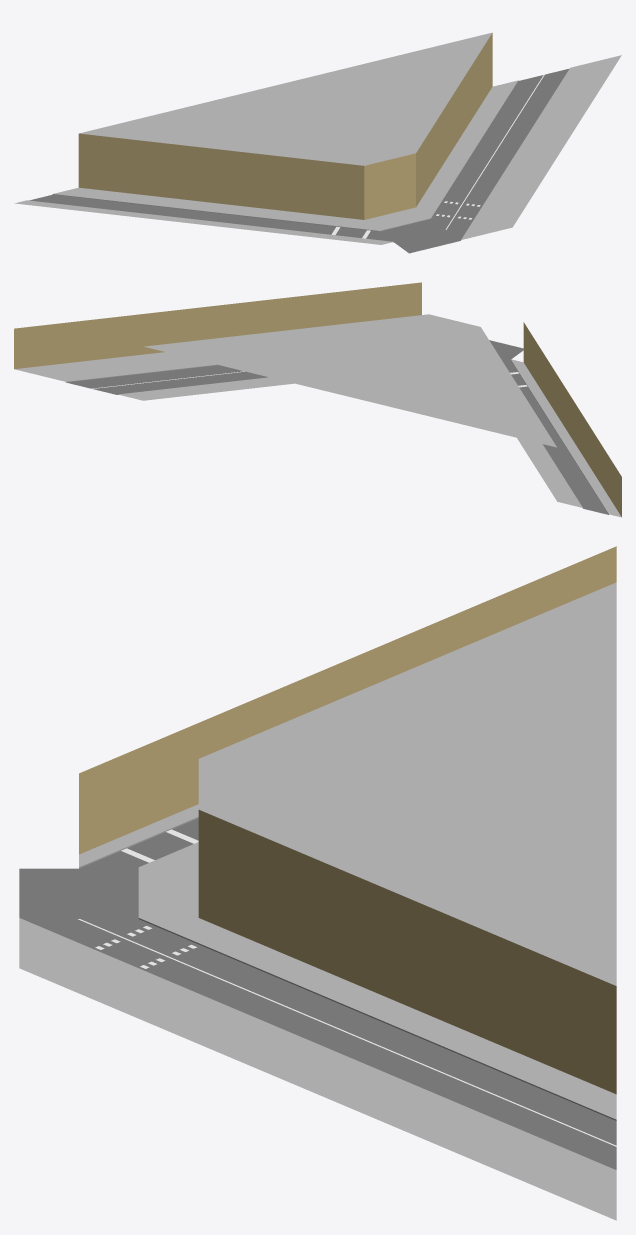
File: capitan_moreno.glb
3 renders of one model, top to bottom at view 1: azimuth 30°, elevation 25°; view 2: azimuth 150°, elevation 25°; view 3: azimuth 270°, elevation 25°, orthographic. The views are drawn at different scales.
Visible parts, largest first — view 1: Plane; view 2: Plane; view 3: Plane.
Boxes of the visible parts, x1,y1,x2,y2 form: Plane: (14,32,621,253); Plane: (14,282,621,517); Plane: (19,546,616,1220).
Size of what is drawn, in the model's own units: 94 by 8.1 by 40.
